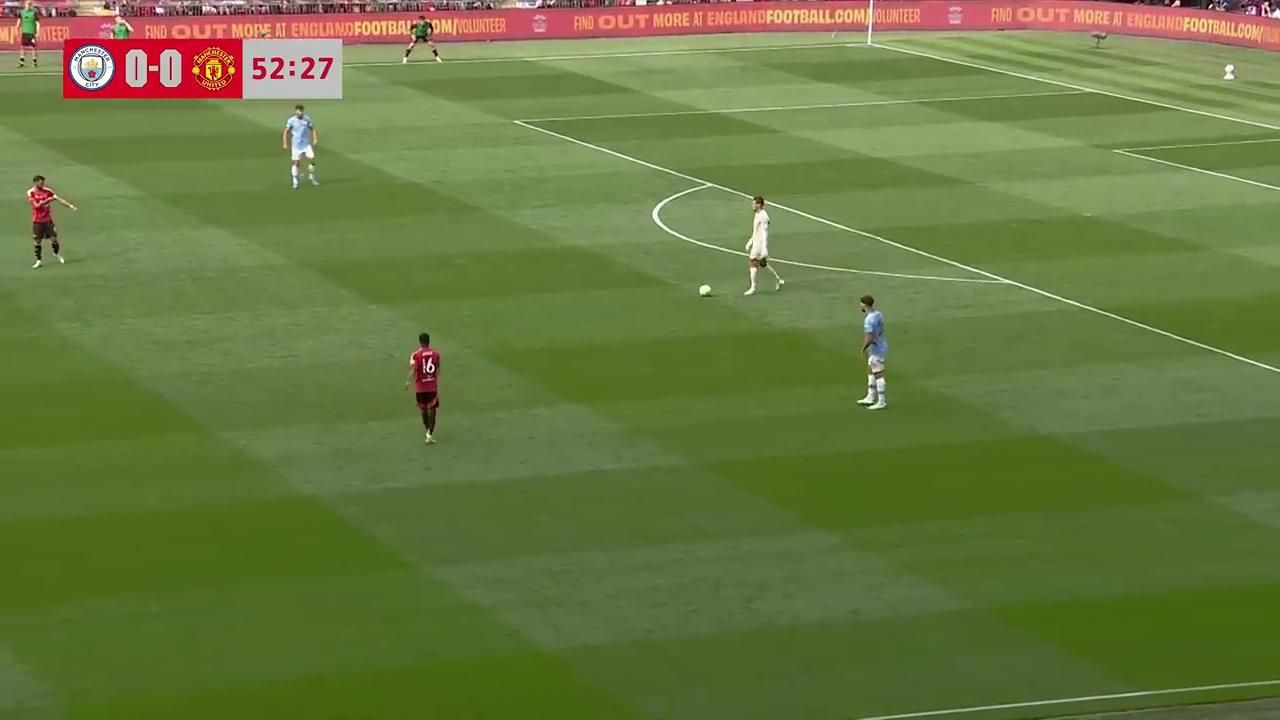ball: (696, 280, 713, 298)
player: (26, 173, 76, 269), (405, 331, 441, 445), (742, 198, 784, 294), (856, 295, 888, 409), (282, 104, 318, 190)
